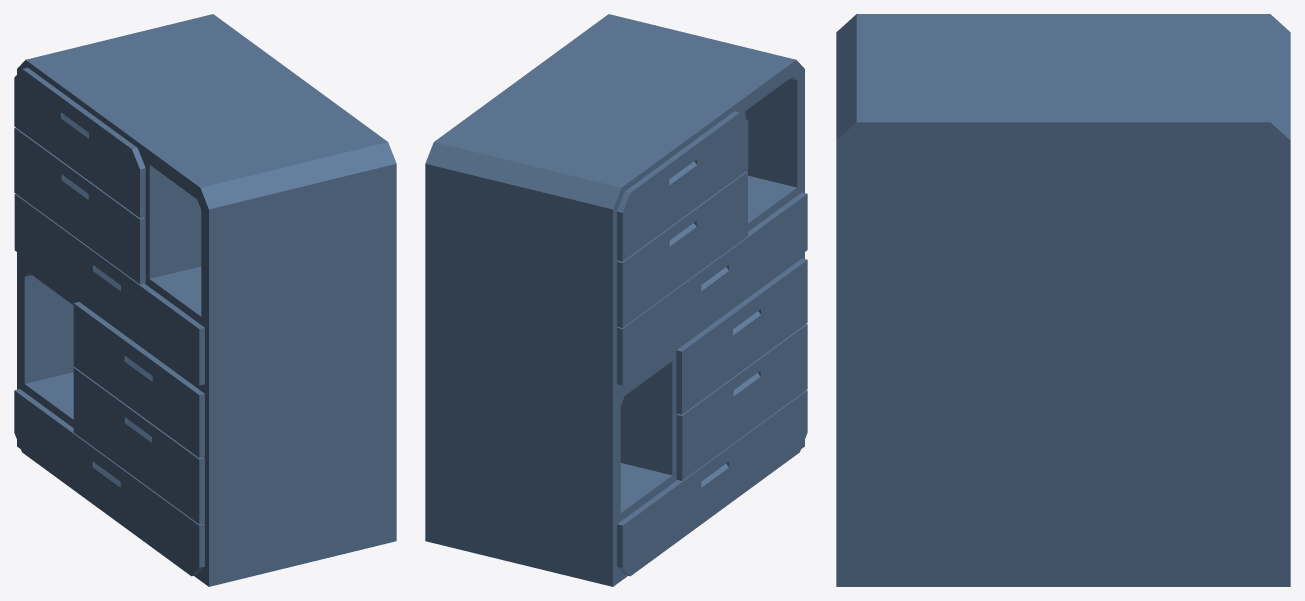
The model's file is Shelf.fbx.
3 views of the same model, side by side, from view 1: azimuth 30°, elevation 25°; view 2: azimuth 150°, elevation 25°; view 3: azimuth 270°, elevation 25° (orthographic). The views are drawn at different scales.
Visible parts, largest first — view 1: ChestSwap, Drawer3_3, Drawer6_6, Drawer4_4, Drawer1_1, Drawer5_5, Drawer2_2; view 2: ChestSwap, Drawer3_3, Drawer6_6, Drawer4_4, Drawer1_1, Drawer5_5, Drawer2_2; view 3: ChestSwap.
Part boxes in pixels (box(x1,y1,x2,y2)): ChestSwap: box(17, 14, 396, 586); Drawer3_3: box(14, 193, 204, 385); Drawer6_6: box(14, 389, 204, 576); Drawer4_4: box(73, 302, 204, 457); Drawer1_1: box(14, 67, 145, 218); Drawer5_5: box(73, 367, 204, 524); Drawer2_2: box(14, 127, 145, 284); ChestSwap: box(425, 14, 804, 586); Drawer3_3: box(617, 192, 807, 385); Drawer6_6: box(617, 390, 807, 576); Drawer4_4: box(676, 258, 807, 414); Drawer1_1: box(617, 111, 748, 261); Drawer5_5: box(676, 324, 807, 480); Drawer2_2: box(617, 171, 747, 327); ChestSwap: box(836, 14, 1290, 586).
Bounding box in the file's own units: 72.31 × 140 × 124.
